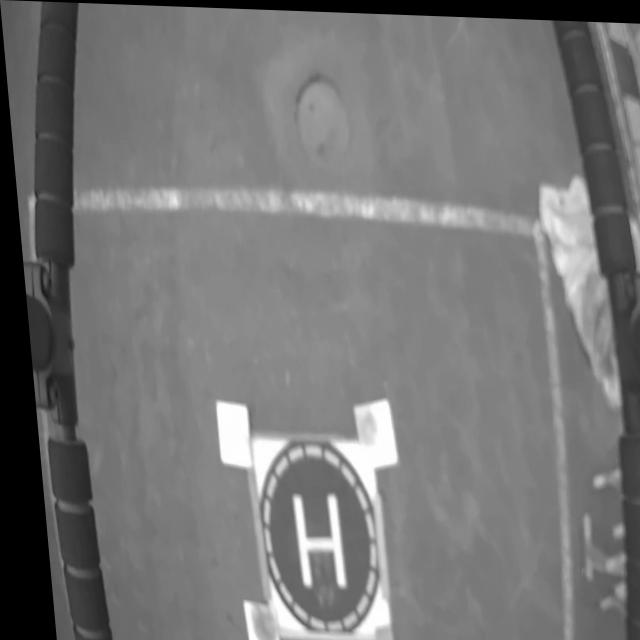Helipad: (284, 492, 337, 587)
